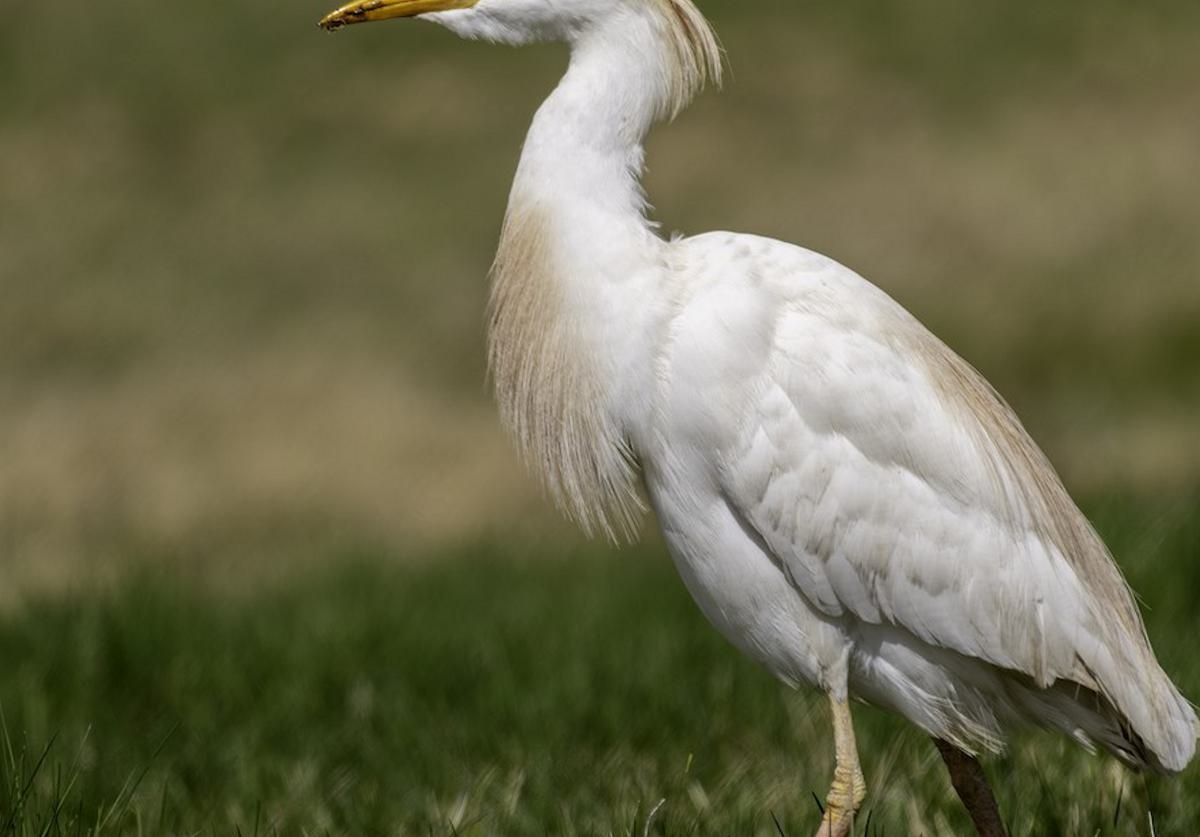egret: (258, 1, 1181, 834)
